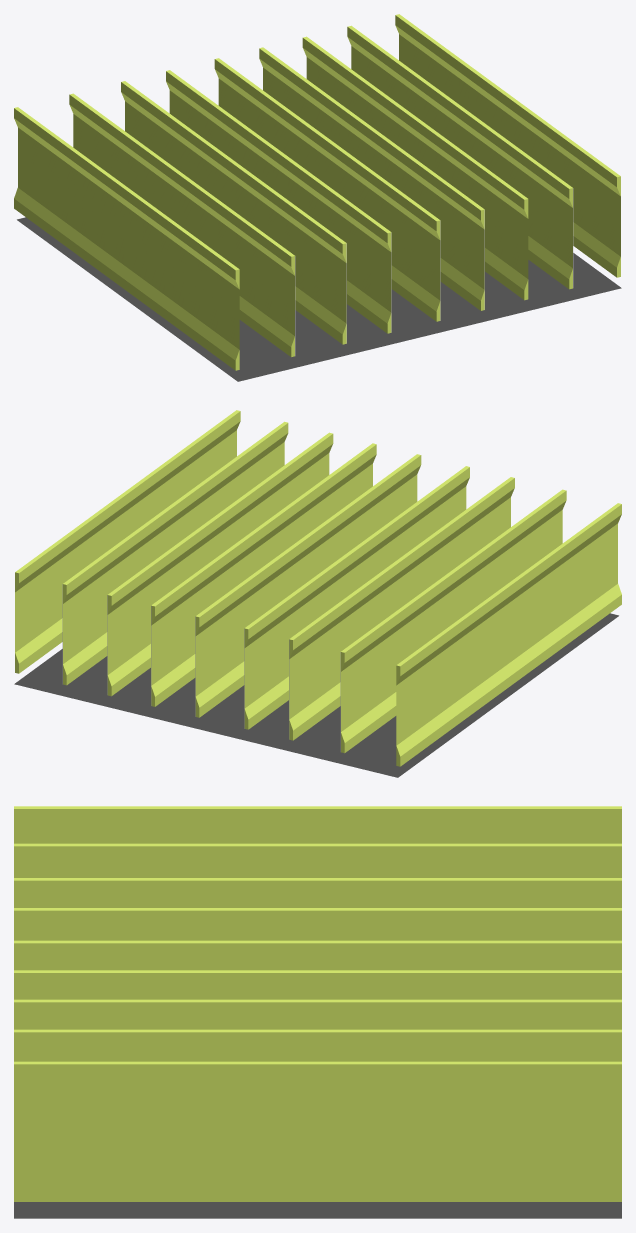
Rendered from Fall.dae.
3 views of the same model, one above another, from view 1: azimuth 30°, elevation 25°; view 2: azimuth 150°, elevation 25°; view 3: azimuth 270°, elevation 25° (orthographic). The views are drawn at different scales.
Parts seen in each view (by area): view 1: node_a7f3ef08_7f67_40b7_890c_c1ba4b144828_mesh7, node_a7f3ef08_7f67_40b7_890c_c1ba4b144828_mesh2, node_a7f3ef08_7f67_40b7_890c_c1ba4b144828_mesh4, node_a7f3ef08_7f67_40b7_890c_c1ba4b144828_mesh6, node_a7f3ef08_7f67_40b7_890c_c1ba4b144828_mesh8, node_a7f3ef08_7f67_40b7_890c_c1ba4b144828_mesh3, node_a7f3ef08_7f67_40b7_890c_c1ba4b144828_mesh9, node_a7f3ef08_7f67_40b7_890c_c1ba4b144828_mesh1, node_a7f3ef08_7f67_40b7_890c_c1ba4b144828_mesh0, node_a7f3ef08_7f67_40b7_890c_c1ba4b144828_mesh5; view 2: node_a7f3ef08_7f67_40b7_890c_c1ba4b144828_mesh7, node_a7f3ef08_7f67_40b7_890c_c1ba4b144828_mesh2, node_a7f3ef08_7f67_40b7_890c_c1ba4b144828_mesh4, node_a7f3ef08_7f67_40b7_890c_c1ba4b144828_mesh6, node_a7f3ef08_7f67_40b7_890c_c1ba4b144828_mesh8, node_a7f3ef08_7f67_40b7_890c_c1ba4b144828_mesh3, node_a7f3ef08_7f67_40b7_890c_c1ba4b144828_mesh9, node_a7f3ef08_7f67_40b7_890c_c1ba4b144828_mesh1, node_a7f3ef08_7f67_40b7_890c_c1ba4b144828_mesh0, node_a7f3ef08_7f67_40b7_890c_c1ba4b144828_mesh5; view 3: node_a7f3ef08_7f67_40b7_890c_c1ba4b144828_mesh3, node_a7f3ef08_7f67_40b7_890c_c1ba4b144828_mesh7, node_a7f3ef08_7f67_40b7_890c_c1ba4b144828_mesh2, node_a7f3ef08_7f67_40b7_890c_c1ba4b144828_mesh1, node_a7f3ef08_7f67_40b7_890c_c1ba4b144828_mesh9, node_a7f3ef08_7f67_40b7_890c_c1ba4b144828_mesh5, node_a7f3ef08_7f67_40b7_890c_c1ba4b144828_mesh8, node_a7f3ef08_7f67_40b7_890c_c1ba4b144828_mesh0, node_a7f3ef08_7f67_40b7_890c_c1ba4b144828_mesh4, node_a7f3ef08_7f67_40b7_890c_c1ba4b144828_mesh6.
Boxes of the visible parts, left/top/right/bottom form: node_a7f3ef08_7f67_40b7_890c_c1ba4b144828_mesh7: left=14, top=107, right=239, bottom=370; node_a7f3ef08_7f67_40b7_890c_c1ba4b144828_mesh2: left=69, top=93, right=295, bottom=357; node_a7f3ef08_7f67_40b7_890c_c1ba4b144828_mesh4: left=121, top=81, right=346, bottom=344; node_a7f3ef08_7f67_40b7_890c_c1ba4b144828_mesh6: left=17, top=217, right=621, bottom=381; node_a7f3ef08_7f67_40b7_890c_c1ba4b144828_mesh8: left=214, top=58, right=440, bottom=321; node_a7f3ef08_7f67_40b7_890c_c1ba4b144828_mesh3: left=395, top=14, right=620, bottom=277; node_a7f3ef08_7f67_40b7_890c_c1ba4b144828_mesh9: left=347, top=25, right=573, bottom=289; node_a7f3ef08_7f67_40b7_890c_c1ba4b144828_mesh1: left=166, top=70, right=391, bottom=333; node_a7f3ef08_7f67_40b7_890c_c1ba4b144828_mesh0: left=259, top=47, right=484, bottom=310; node_a7f3ef08_7f67_40b7_890c_c1ba4b144828_mesh5: left=302, top=36, right=528, bottom=300; node_a7f3ef08_7f67_40b7_890c_c1ba4b144828_mesh7: left=396, top=503, right=621, bottom=766; node_a7f3ef08_7f67_40b7_890c_c1ba4b144828_mesh2: left=340, top=489, right=566, bottom=753; node_a7f3ef08_7f67_40b7_890c_c1ba4b144828_mesh4: left=289, top=477, right=514, bottom=740; node_a7f3ef08_7f67_40b7_890c_c1ba4b144828_mesh6: left=14, top=613, right=618, bottom=777; node_a7f3ef08_7f67_40b7_890c_c1ba4b144828_mesh8: left=195, top=454, right=421, bottom=717; node_a7f3ef08_7f67_40b7_890c_c1ba4b144828_mesh3: left=15, top=410, right=240, bottom=673; node_a7f3ef08_7f67_40b7_890c_c1ba4b144828_mesh9: left=62, top=421, right=288, bottom=685; node_a7f3ef08_7f67_40b7_890c_c1ba4b144828_mesh1: left=244, top=466, right=469, bottom=729; node_a7f3ef08_7f67_40b7_890c_c1ba4b144828_mesh0: left=151, top=443, right=376, bottom=706; node_a7f3ef08_7f67_40b7_890c_c1ba4b144828_mesh5: left=107, top=432, right=333, bottom=696; node_a7f3ef08_7f67_40b7_890c_c1ba4b144828_mesh3: left=14, top=1061, right=621, bottom=1201; node_a7f3ef08_7f67_40b7_890c_c1ba4b144828_mesh7: left=14, top=806, right=621, bottom=843; node_a7f3ef08_7f67_40b7_890c_c1ba4b144828_mesh2: left=14, top=843, right=621, bottom=877; node_a7f3ef08_7f67_40b7_890c_c1ba4b144828_mesh1: left=14, top=908, right=621, bottom=940; node_a7f3ef08_7f67_40b7_890c_c1ba4b144828_mesh9: left=14, top=1029, right=621, bottom=1061; node_a7f3ef08_7f67_40b7_890c_c1ba4b144828_mesh5: left=14, top=999, right=621, bottom=1029; node_a7f3ef08_7f67_40b7_890c_c1ba4b144828_mesh8: left=14, top=940, right=621, bottom=970; node_a7f3ef08_7f67_40b7_890c_c1ba4b144828_mesh0: left=14, top=970, right=621, bottom=999; node_a7f3ef08_7f67_40b7_890c_c1ba4b144828_mesh4: left=14, top=878, right=621, bottom=907; node_a7f3ef08_7f67_40b7_890c_c1ba4b144828_mesh6: left=14, top=1202, right=621, bottom=1218.
Bounding box in the file's own units: 5030 × 1395 × 5000.
